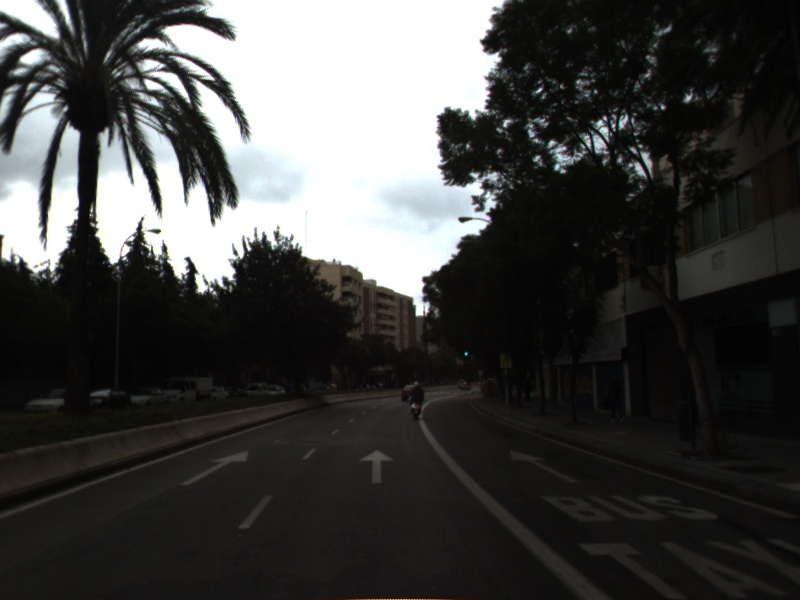STRAIGHT: (178, 449, 251, 487), (507, 448, 581, 485), (356, 448, 396, 485)
